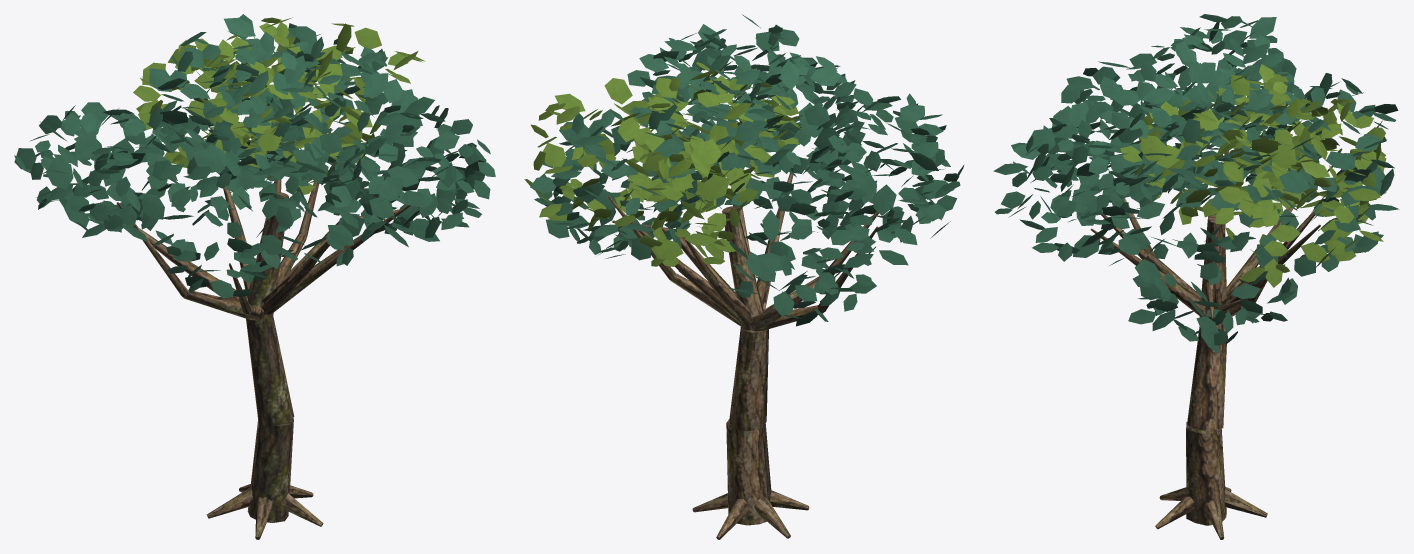
The model's file is Broadleaf_B.glb.
3 renders of one model, left to right at view 1: azimuth 30°, elevation 25°; view 2: azimuth 150°, elevation 25°; view 3: azimuth 270°, elevation 25°, orthographic. The views are drawn at different scales.
Parts seen in each view (by area): view 1: Broadleaf_B; view 2: Broadleaf_B; view 3: Broadleaf_B.
Boxes of the visible parts, bbox=[...] form: Broadleaf_B: bbox=[14, 14, 495, 539]; Broadleaf_B: bbox=[524, 14, 964, 539]; Broadleaf_B: bbox=[993, 14, 1399, 539].
Size of the model in its own units: 5.13 by 5.62 by 4.35.
1 material, 1 textured.
